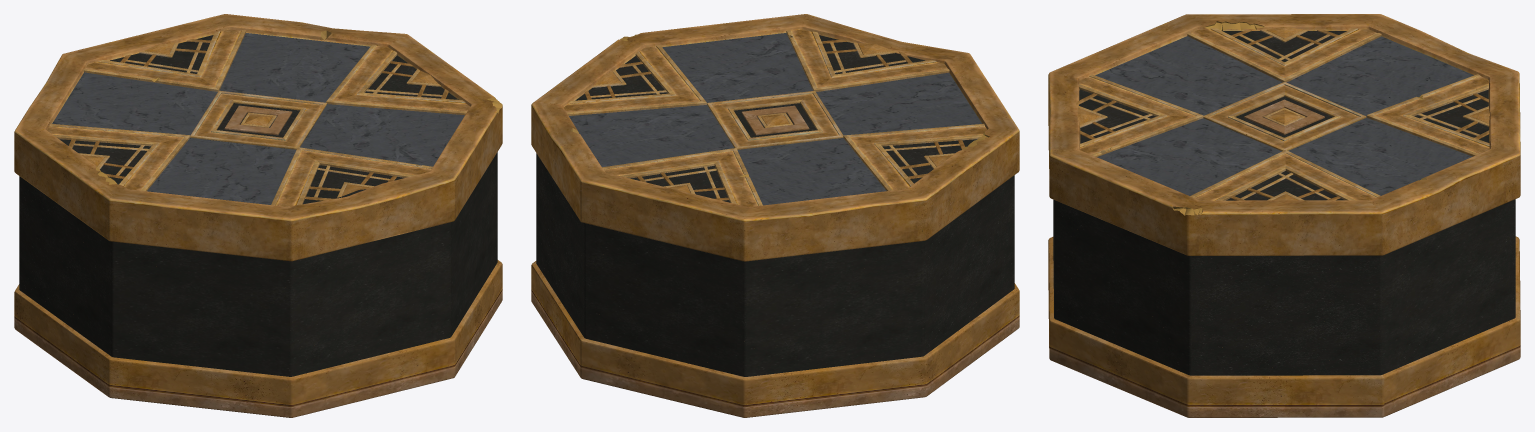
The picture shows the model from 3 angles, left to right: view 1: azimuth 30°, elevation 25°; view 2: azimuth 150°, elevation 25°; view 3: azimuth 270°, elevation 25°; orthographic projection. The views are drawn at different scales.
Visible parts, largest first — view 1: SM_Kuldras_Arena_Bridge_Platform_01_LOD0; view 2: SM_Kuldras_Arena_Bridge_Platform_01_LOD0; view 3: SM_Kuldras_Arena_Bridge_Platform_01_LOD0.
Boxes of the visible parts, bbox=[...] form: SM_Kuldras_Arena_Bridge_Platform_01_LOD0: bbox=[14, 14, 502, 417]; SM_Kuldras_Arena_Bridge_Platform_01_LOD0: bbox=[531, 14, 1019, 417]; SM_Kuldras_Arena_Bridge_Platform_01_LOD0: bbox=[1048, 14, 1520, 417].
Size of the model in its own units: 13.77 by 6.71 by 13.77.
Materials: 4 (4 with a texture image).
